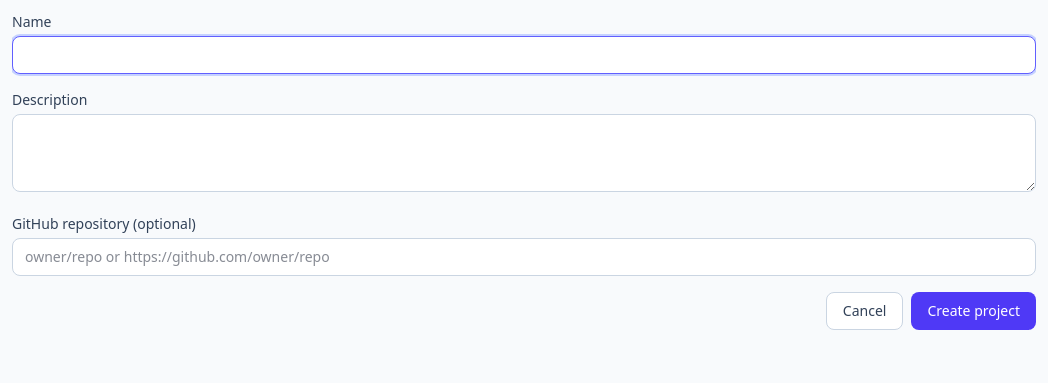
ProjectForm › shows a generic message for network/500 failures
This screenshot has width=1048, height=383.
Type "P" into the field labelled "Name" at (524, 55), box [12, 36, 1036, 74]
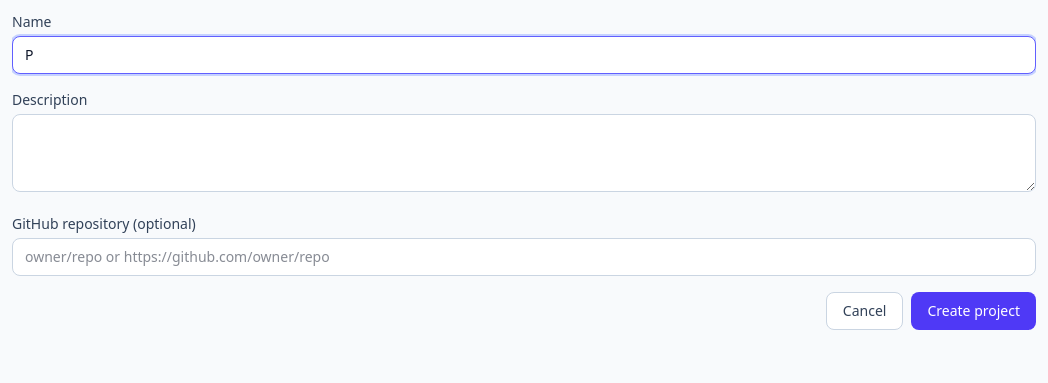
Type "D" into the text box labelled "Description" at (524, 153), box [12, 114, 1036, 192]
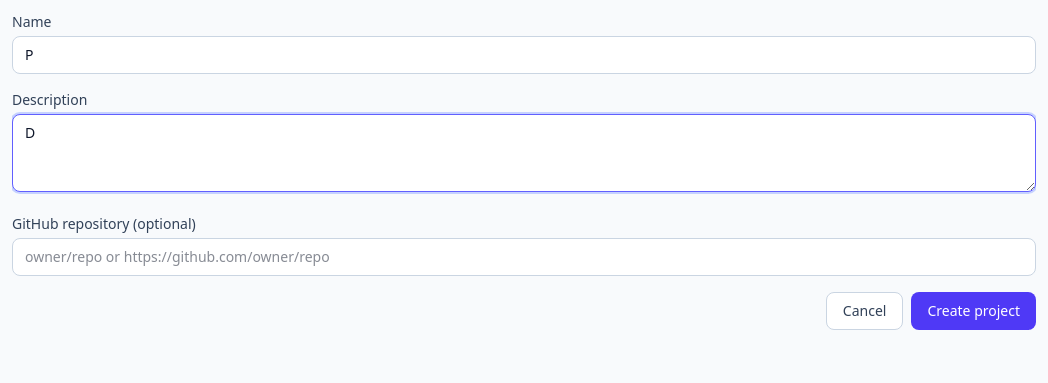
Click the button "Create project" at (974, 311), box [911, 292, 1036, 330]
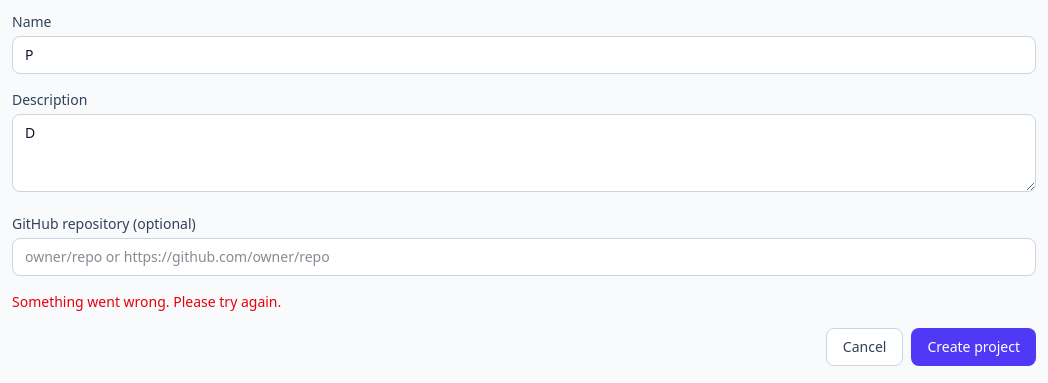
expect the text "Something went wrong. Please try again." is shown: met, box [12, 292, 281, 311]
